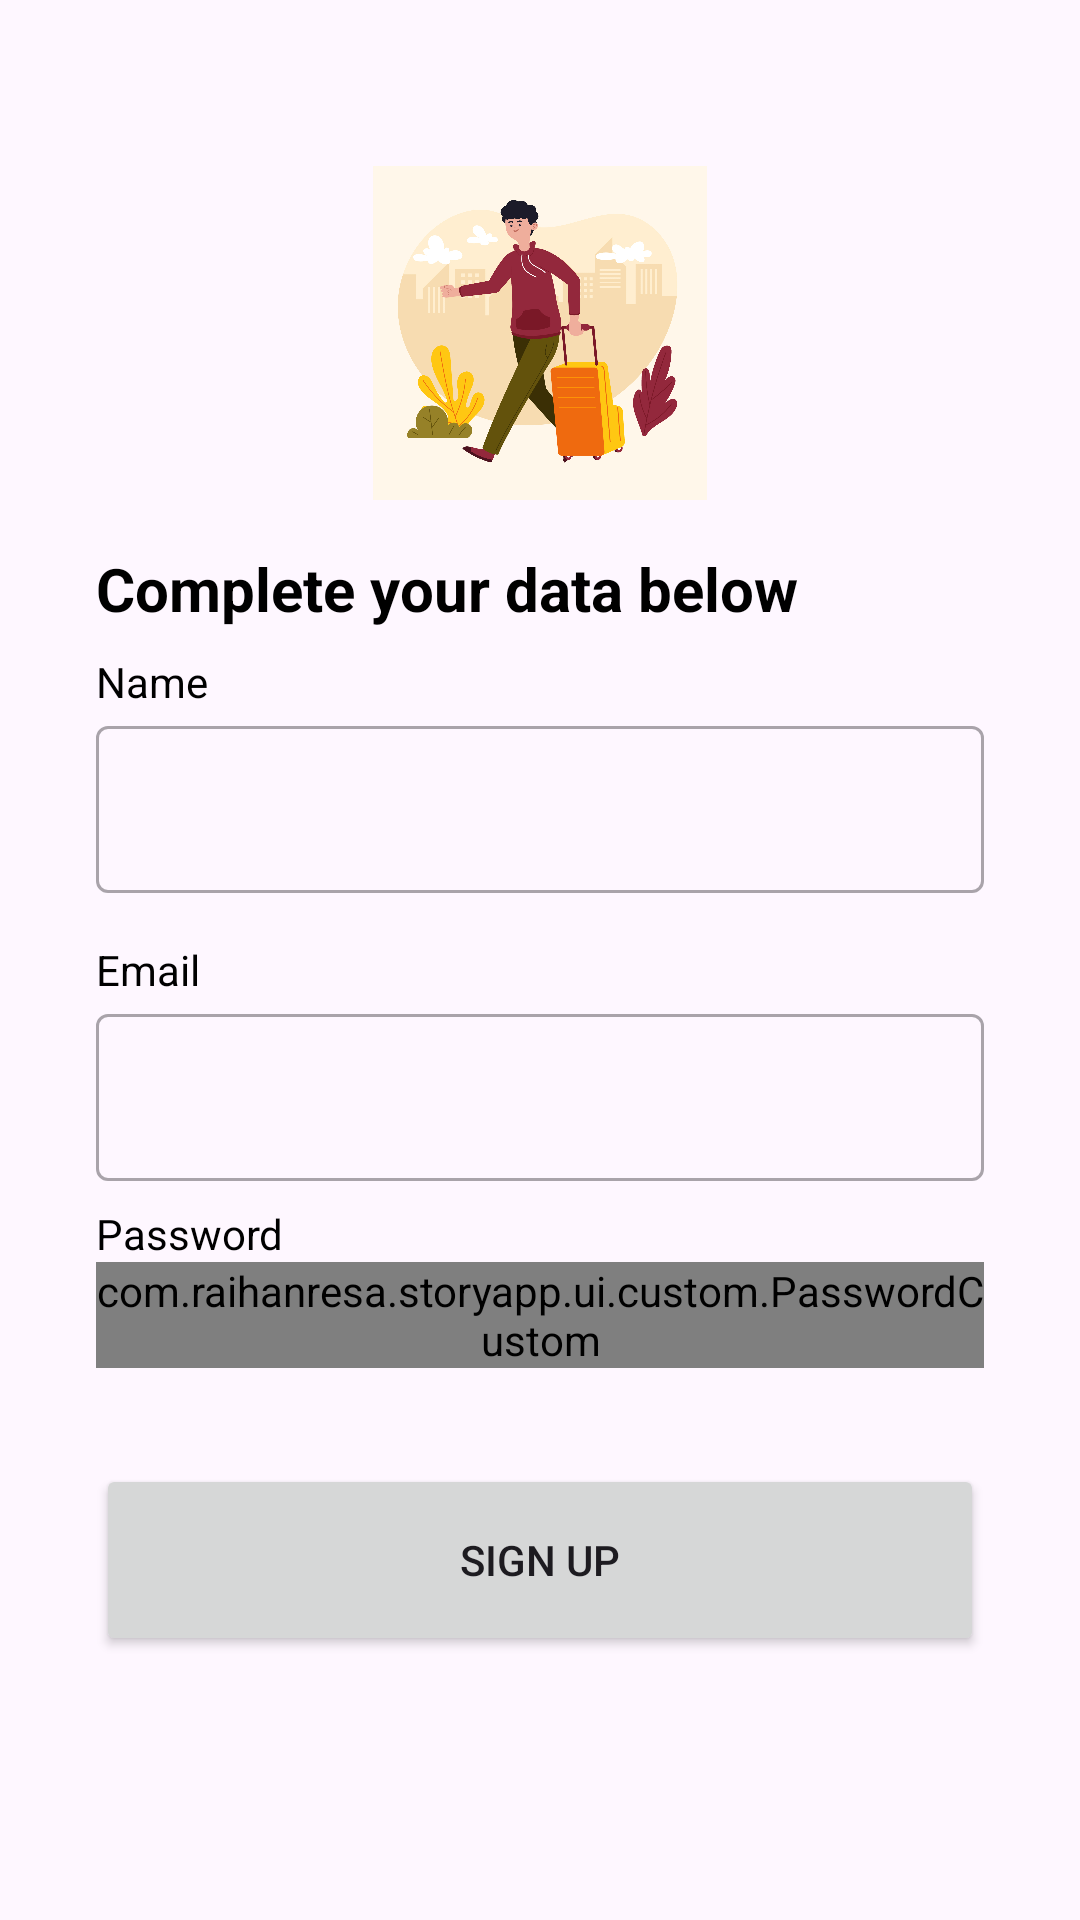

Named icons in this screenshot (1080px×1920px) and their bounding boxes, (x1, y1, x2, y2):
signup image: (398, 200, 677, 463)
